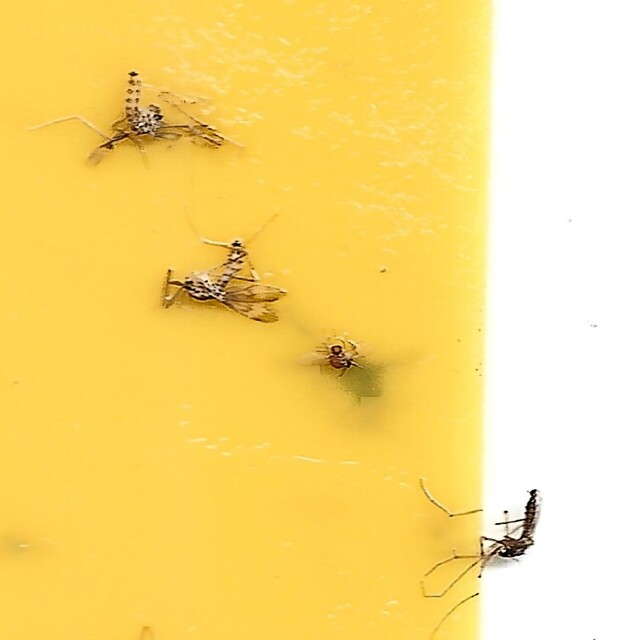Nematocera: (166, 239, 290, 323), (94, 73, 218, 152), (474, 481, 546, 567)
